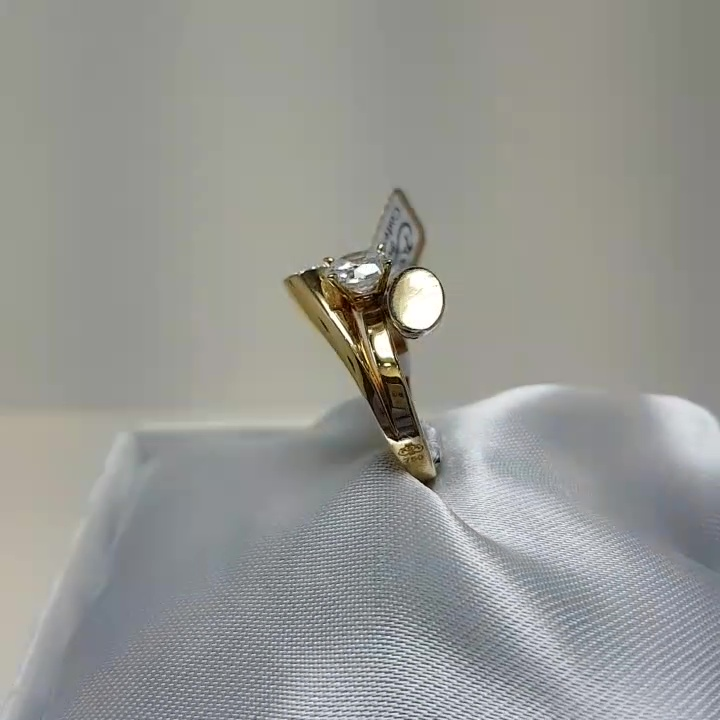Ring 7: (267, 208, 472, 501)
